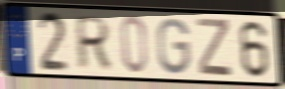0: (119, 14, 149, 76)
2: (37, 9, 69, 75)
6: (238, 19, 271, 81)
G: (156, 16, 192, 77)
R: (76, 14, 113, 71)
Z: (195, 16, 234, 80)
